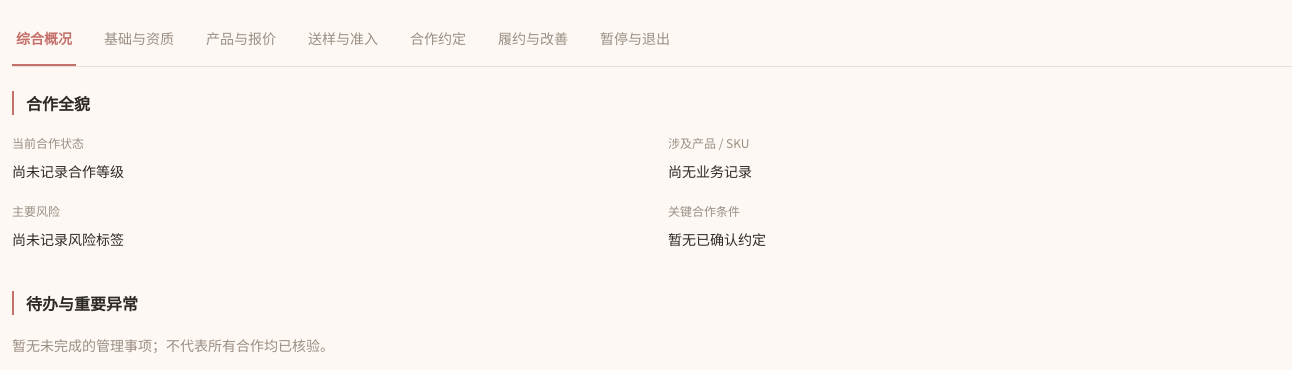
Test: does not present a multi-SKU offer as one supplier-wide unit price
Step 1. Click the button "产品与报价" → click(241, 39), box [202,12,280,66]
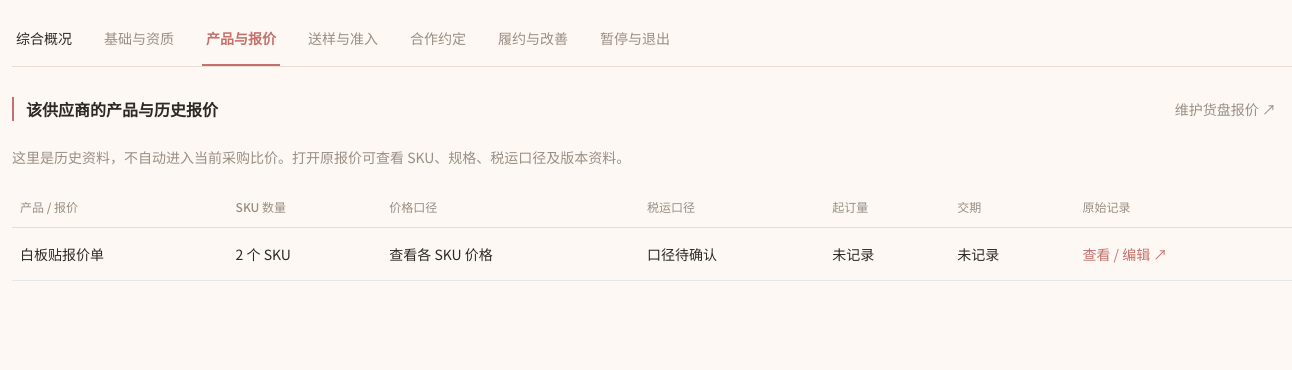
Result: the text "2 个 SKU" is shown at [228,228,381,280]
Result: the text "查看各 SKU 价格" is shown at [381,228,639,280]
